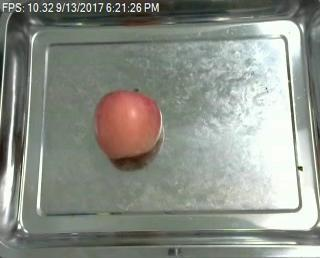apple: (93, 87, 164, 161)
